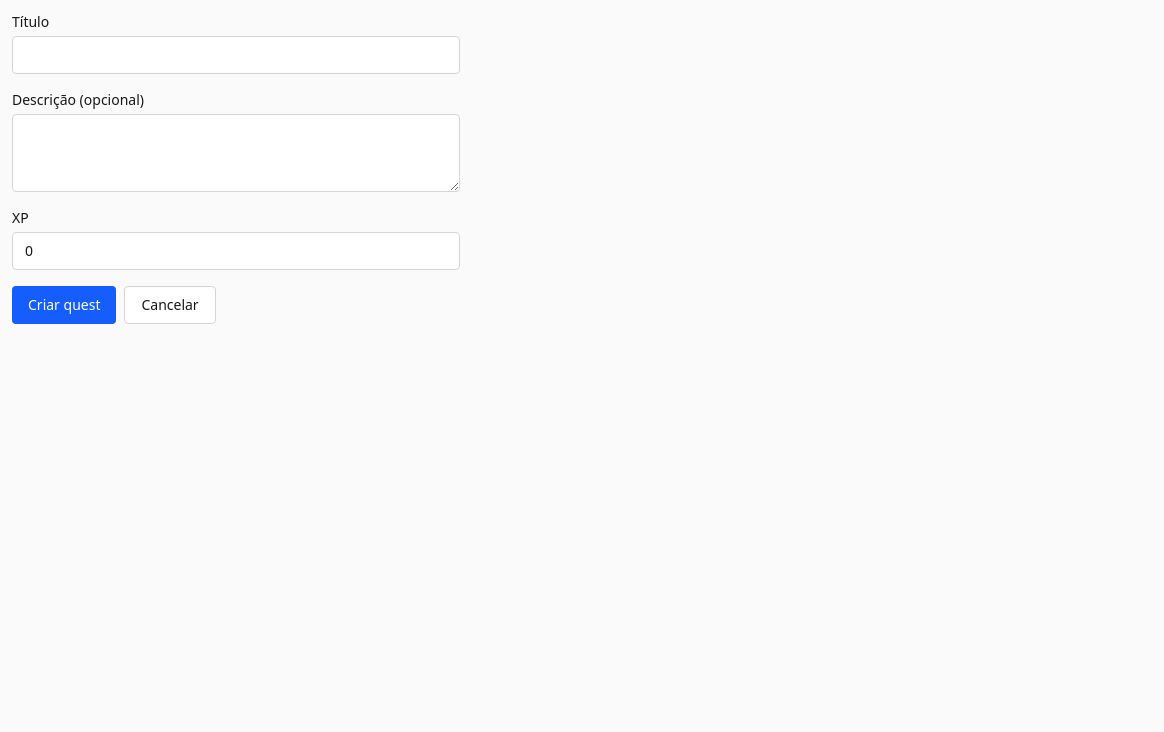
Test: <QuestForm mode="create" /> › mostra toast de sucesso apos criar
Type "Teste" into the field labelled "Título" at (236, 55), box [12,36,460,74]
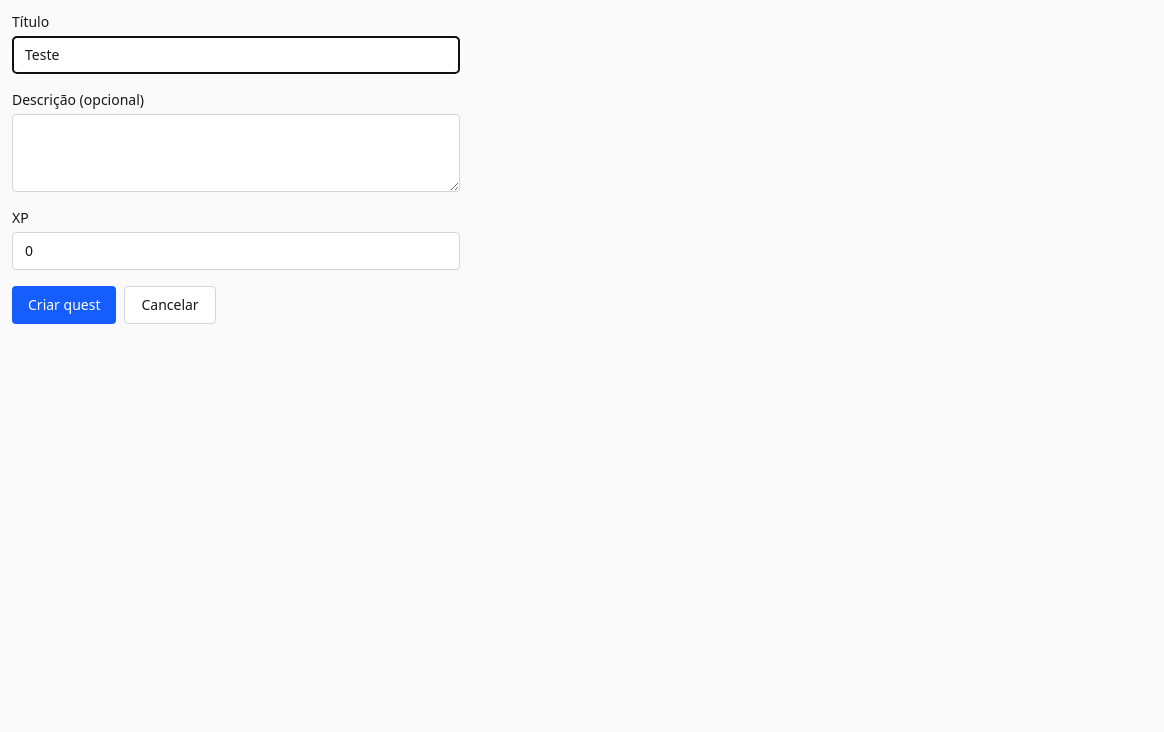
Click the button "Criar quest" at (64, 305), box [12,286,116,324]
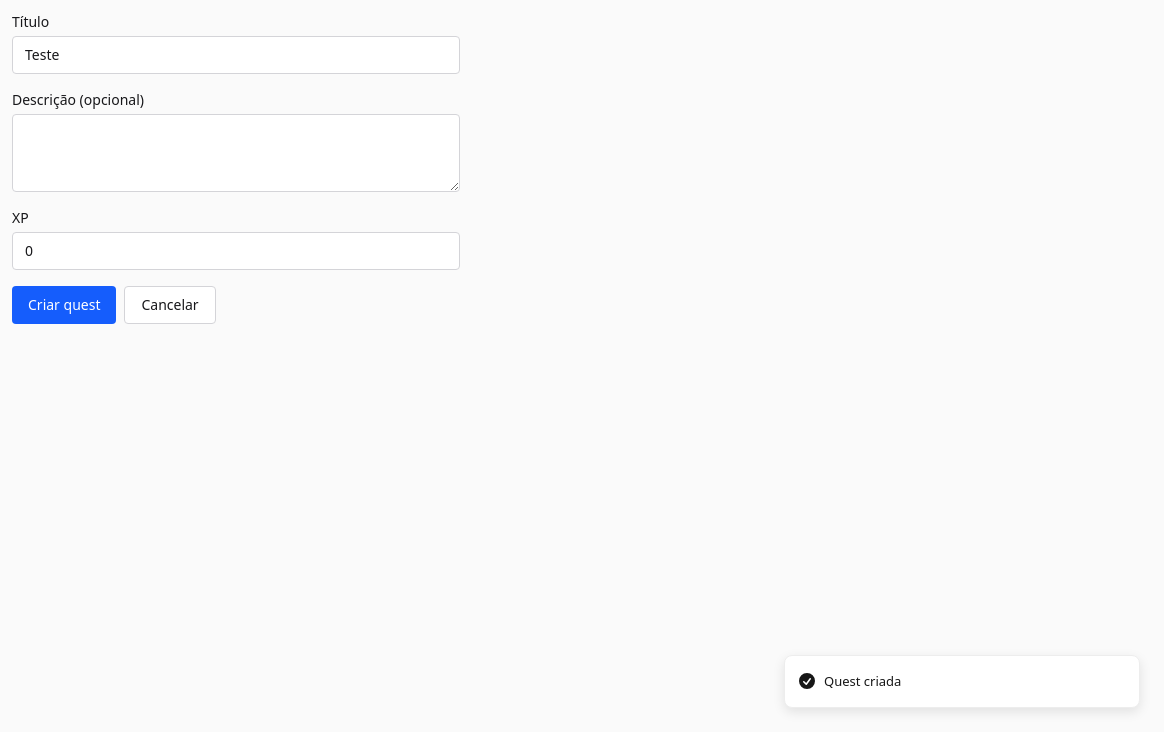
Check: the text "Quest criada" is shown, box [824,672,901,691]
